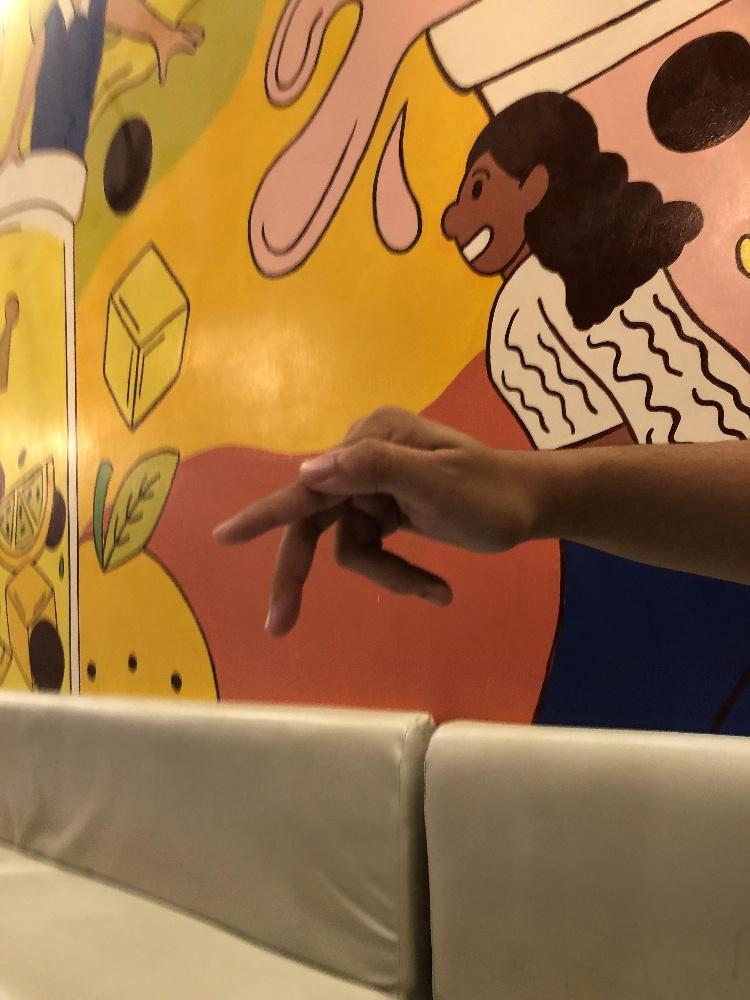p: (208, 402, 547, 640)
